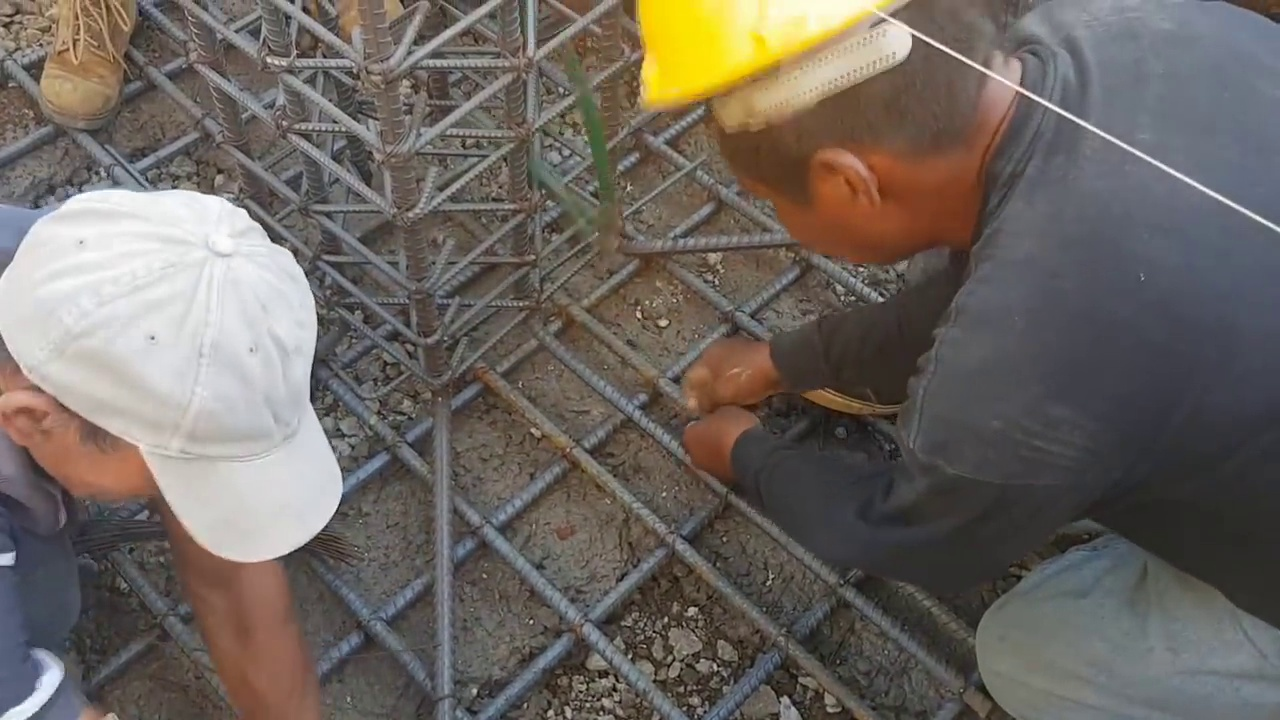helmet: (614, 3, 918, 136)
helmet-off: (0, 186, 330, 569)
helmet-on: (608, 0, 1038, 285)
person: (609, 0, 1280, 720), (2, 186, 337, 717)
